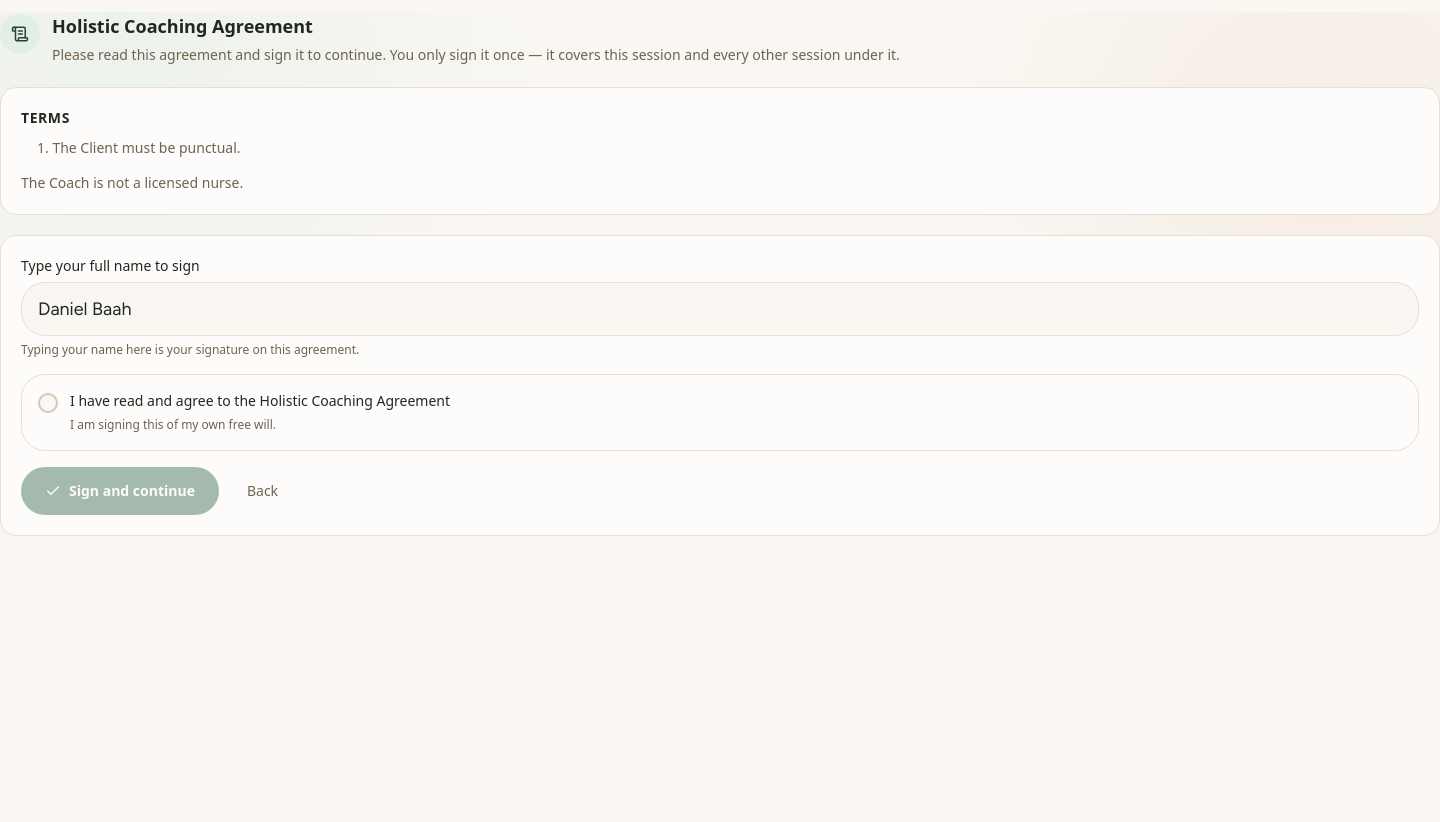
AgreementStep › surfaces a failure instead of pretending the signature landed
Click the checkbox.
click(48, 403)  # box x1=38 y1=393 x2=58 y2=413
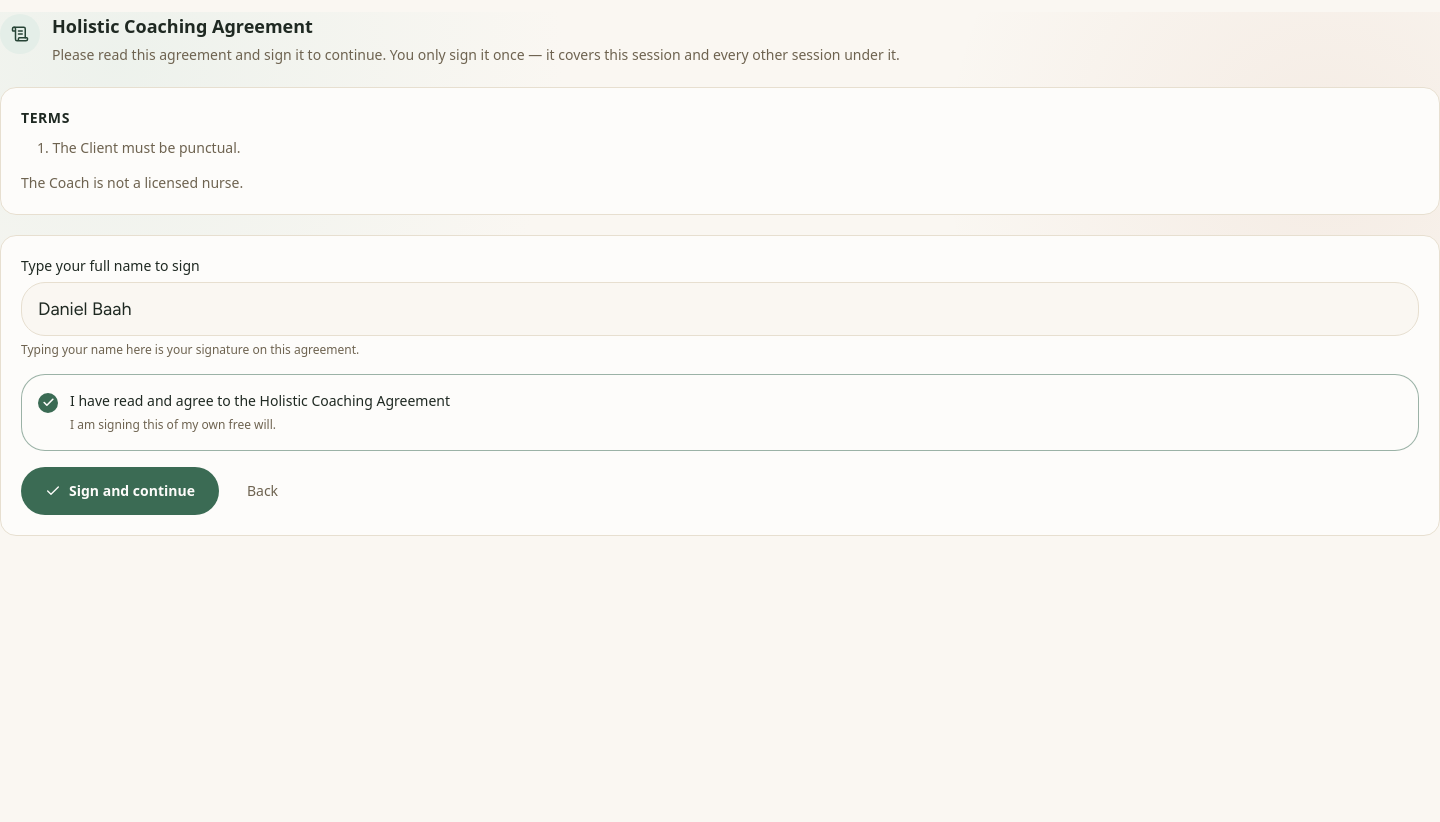
Click the button "Sign and continue".
click(120, 491)  # box x1=21 y1=467 x2=219 y2=515
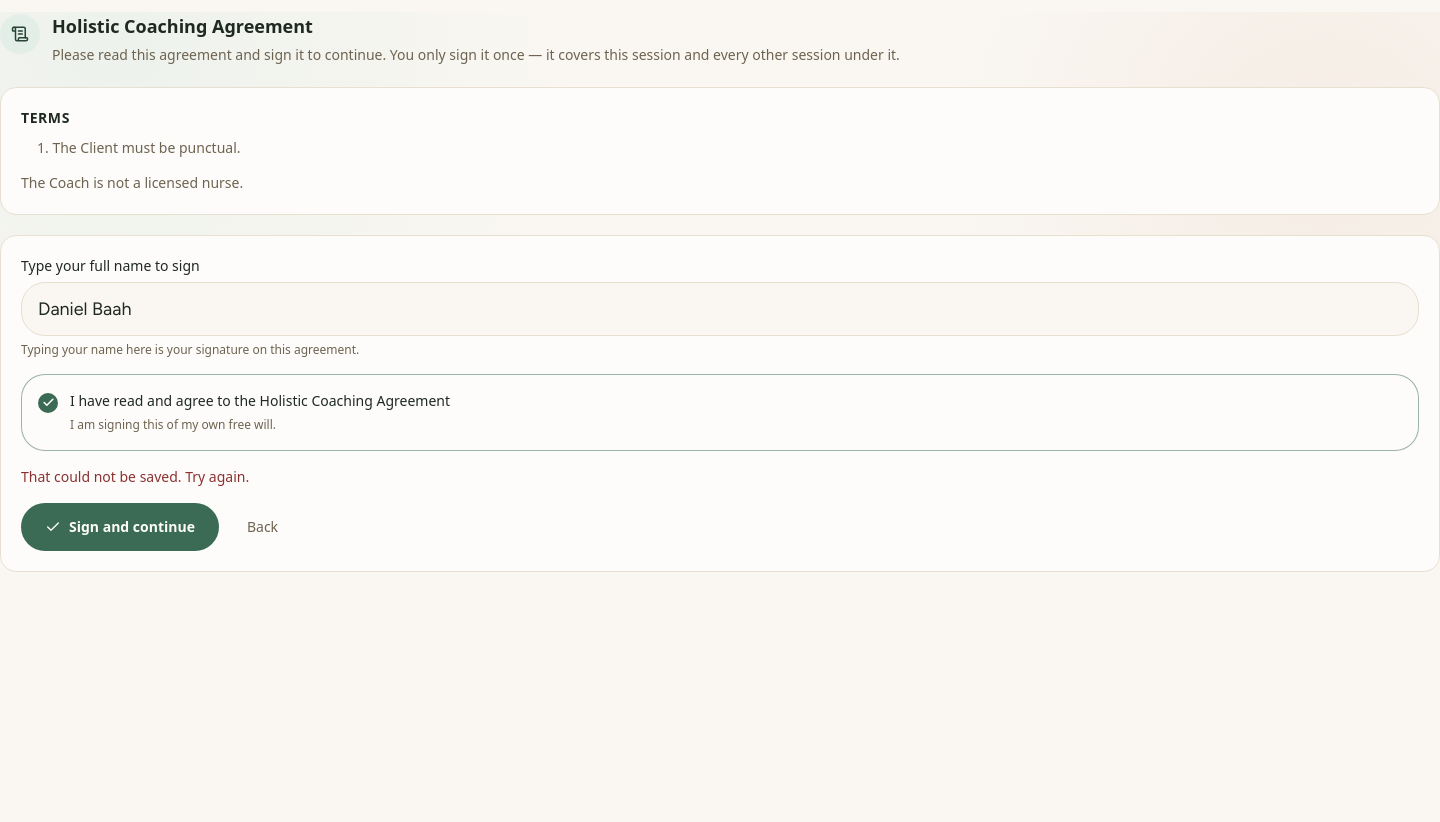
Expected: the message "That could not be saved. Try again." is shown, x1=21 y1=467 x2=249 y2=486
